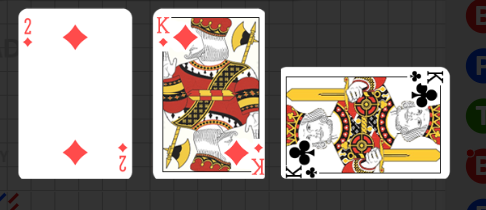2D: (22, 17, 34, 49)
KC: (405, 69, 446, 88)
KD: (155, 15, 170, 49)
